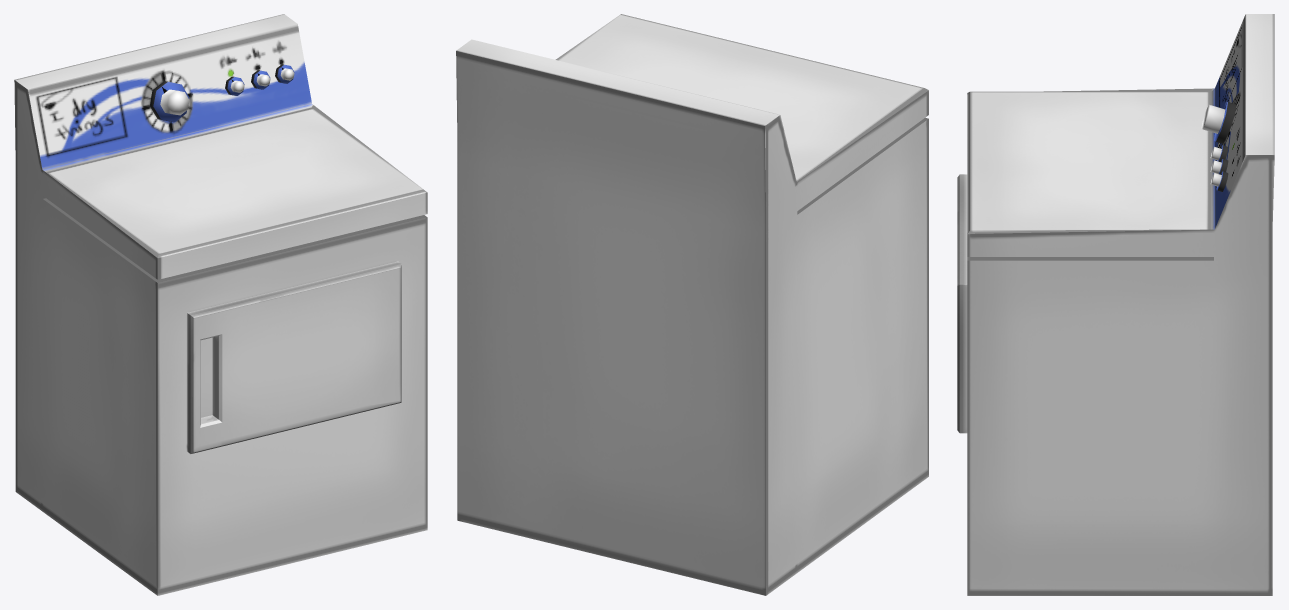
File: Dryer.fbx
The picture shows the model from 3 angles, left to right: view 1: azimuth 30°, elevation 25°; view 2: azimuth 150°, elevation 25°; view 3: azimuth 270°, elevation 25°; orthographic projection. The views are drawn at different scales.
Visible parts, largest first — view 1: Dryer; view 2: Dryer; view 3: Dryer.
Boxes of the visible parts, x1,y1,x2,y2 form: Dryer: (14, 14, 427, 595); Dryer: (456, 14, 928, 595); Dryer: (957, 14, 1274, 595).
Bounding box in the file's own units: 2.7 × 3.93 × 2.57.
